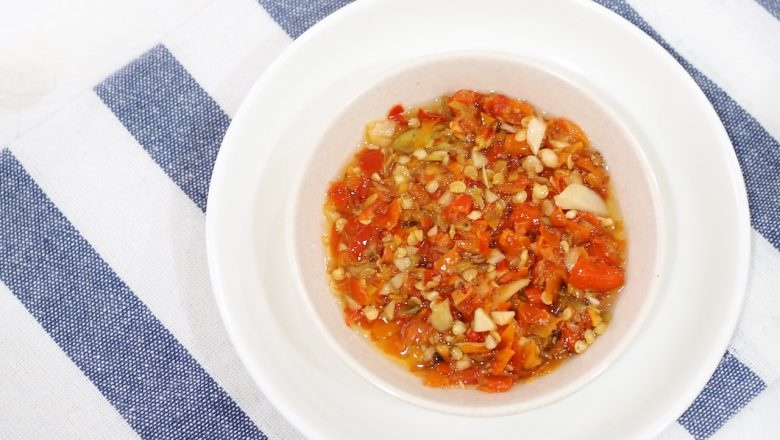sambal: (319, 86, 625, 392)
